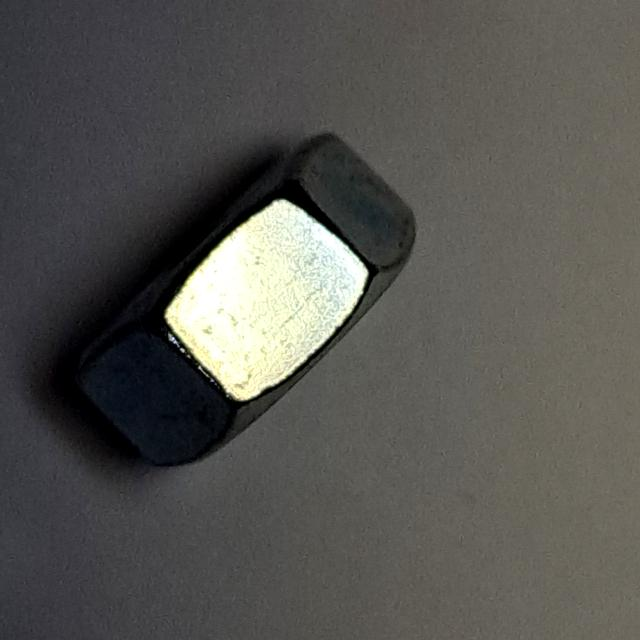Side_Excellent: (49, 119, 443, 480)
